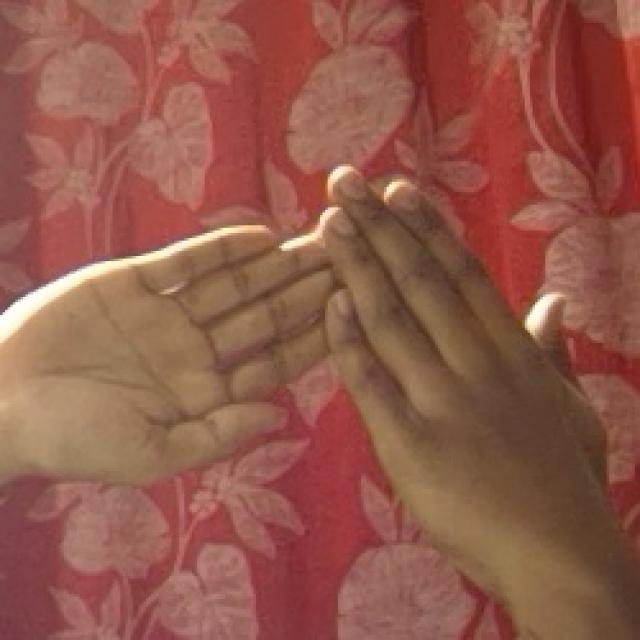Alphabet-H: (24, 160, 618, 574), (418, 606, 419, 607)
